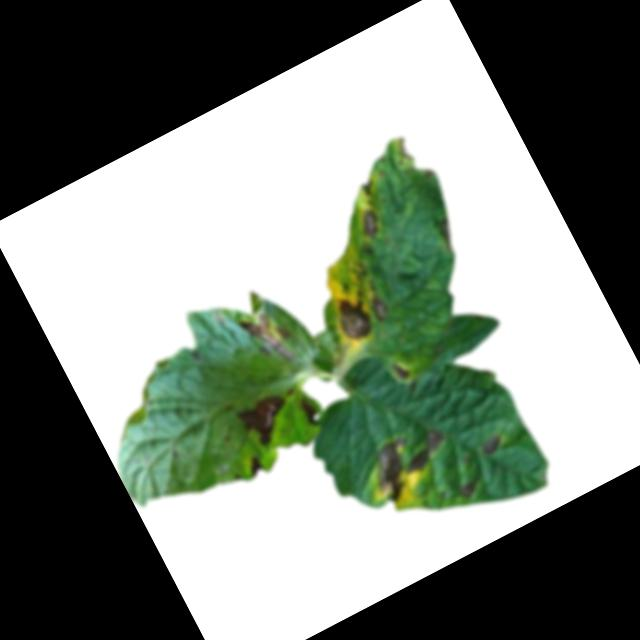Early_blight: (359, 433, 429, 506), (233, 387, 302, 452), (238, 304, 301, 374), (396, 425, 458, 478), (328, 289, 379, 347), (431, 215, 463, 254), (296, 393, 326, 429), (385, 352, 414, 385), (356, 208, 385, 240), (389, 133, 417, 166), (477, 430, 508, 459), (366, 294, 394, 325), (457, 476, 486, 503), (243, 452, 270, 480), (359, 178, 379, 198)
